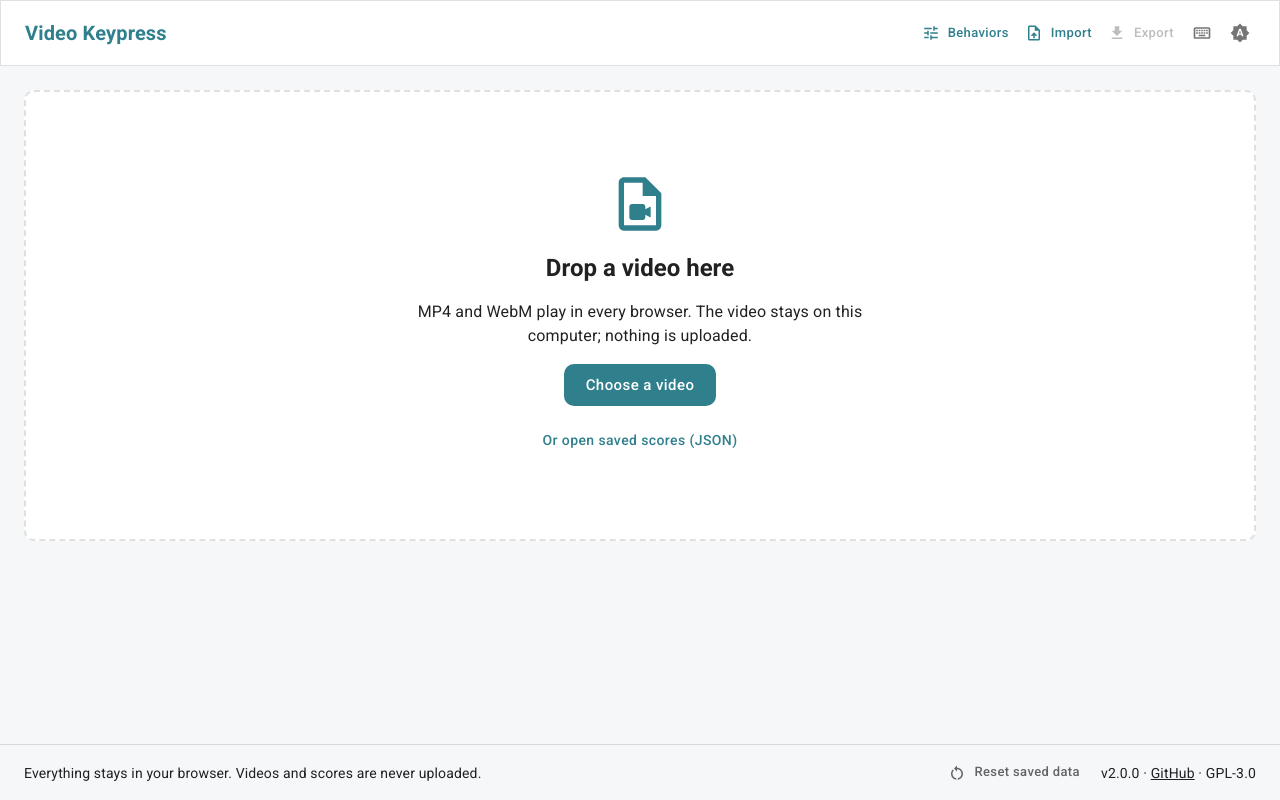
Test: Behaviors dialog › refuses [Space] as a hotkey and says why
The image size is (1280, 800).
Click the button "Behaviors".
click(966, 33)  # box [919, 18, 1014, 48]
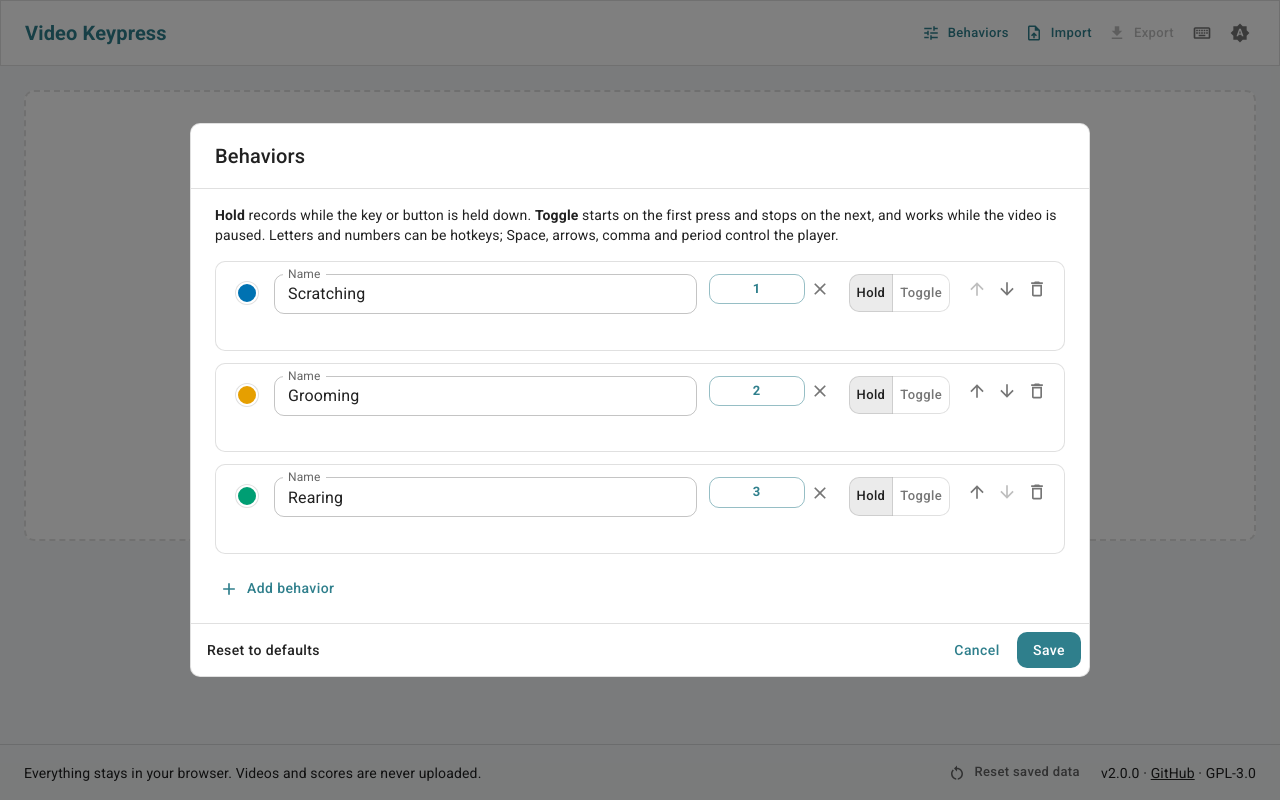
Click the button named "Hotkey for Scratching: 1".
click(757, 289)  # box [709, 274, 805, 304]
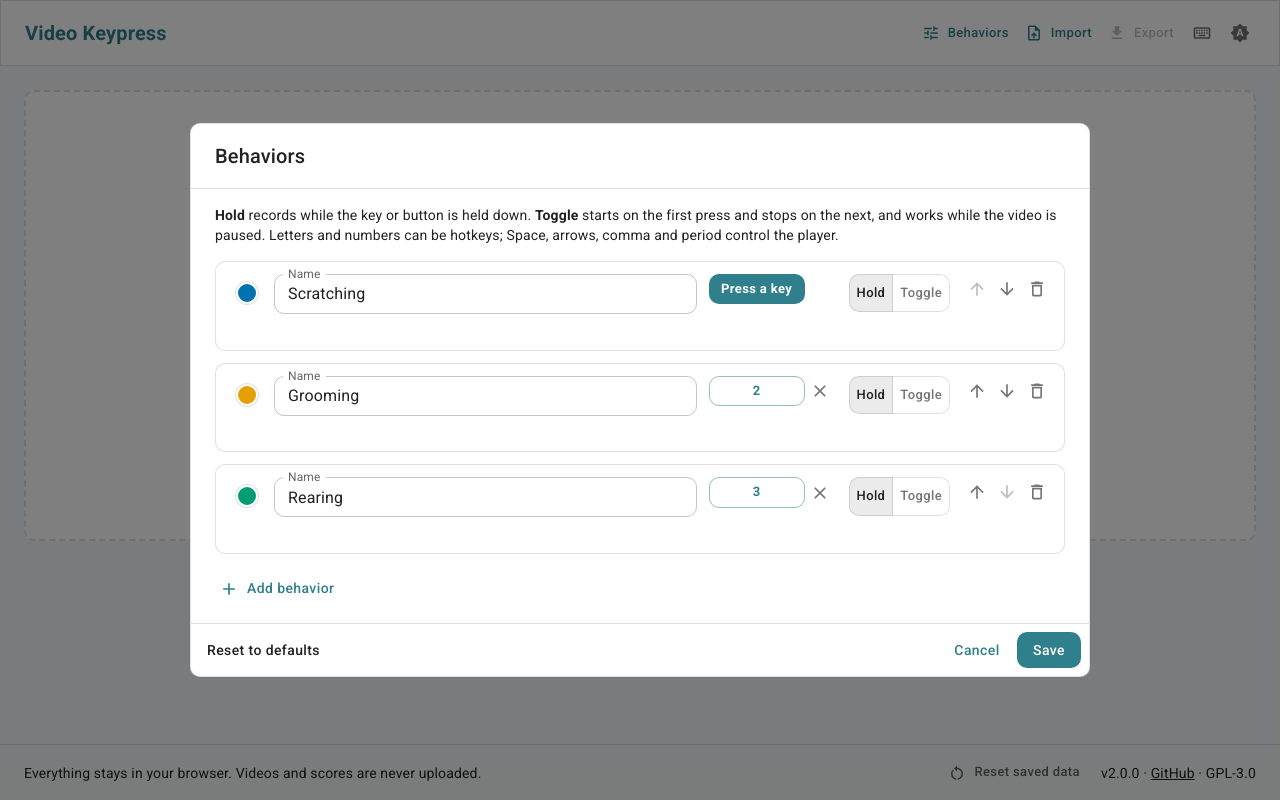
Type keys "[Space]"
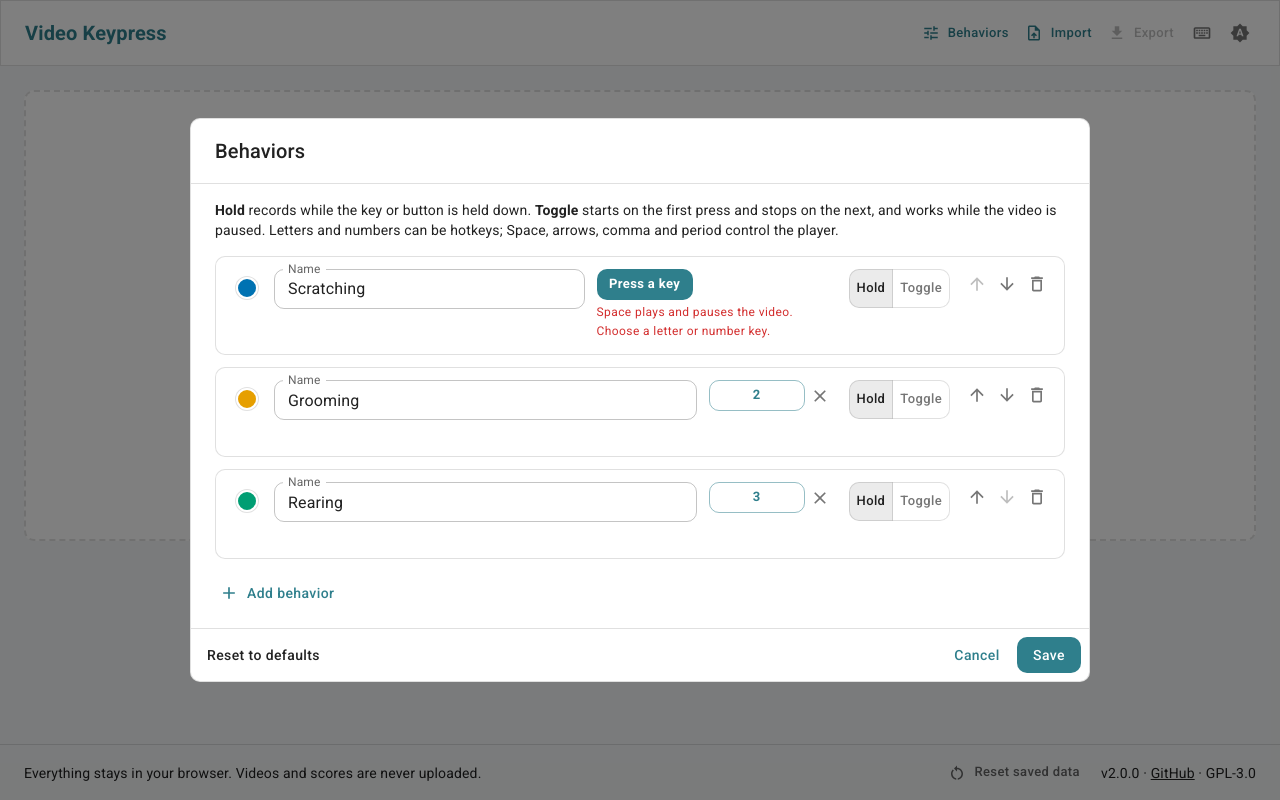
Now the button with aria-label "Hotkey for Scratching: press a key" is shown, box [597, 269, 693, 300]
Now the message reads "Space plays and pauses the video. Choose a letter or number key.", box [597, 305, 793, 338]
